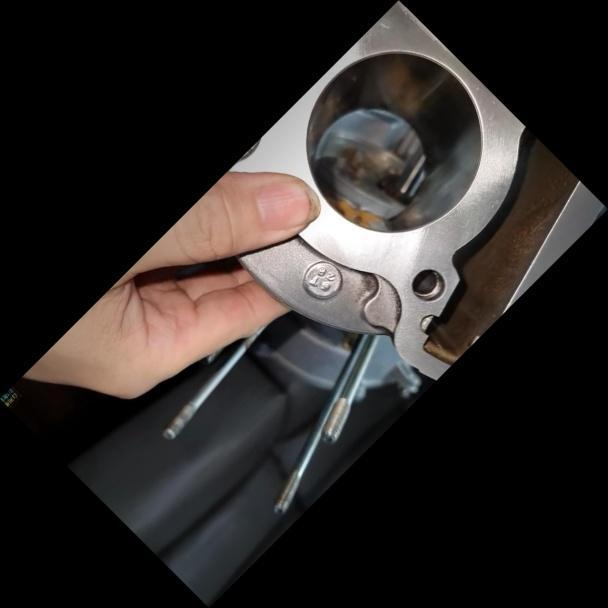hole: (404, 260, 454, 310)
